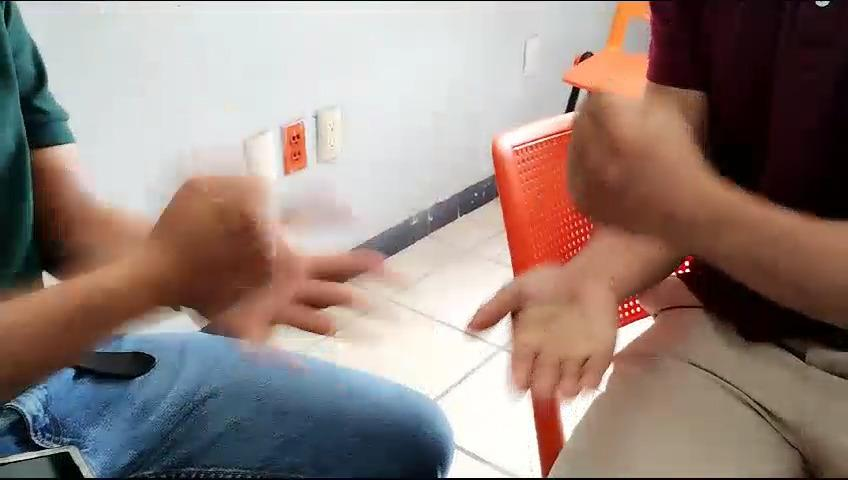Stone: (522, 82, 731, 249), (155, 180, 308, 314)
